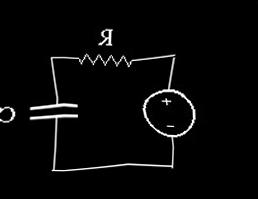Battery: (129, 82, 209, 142)
